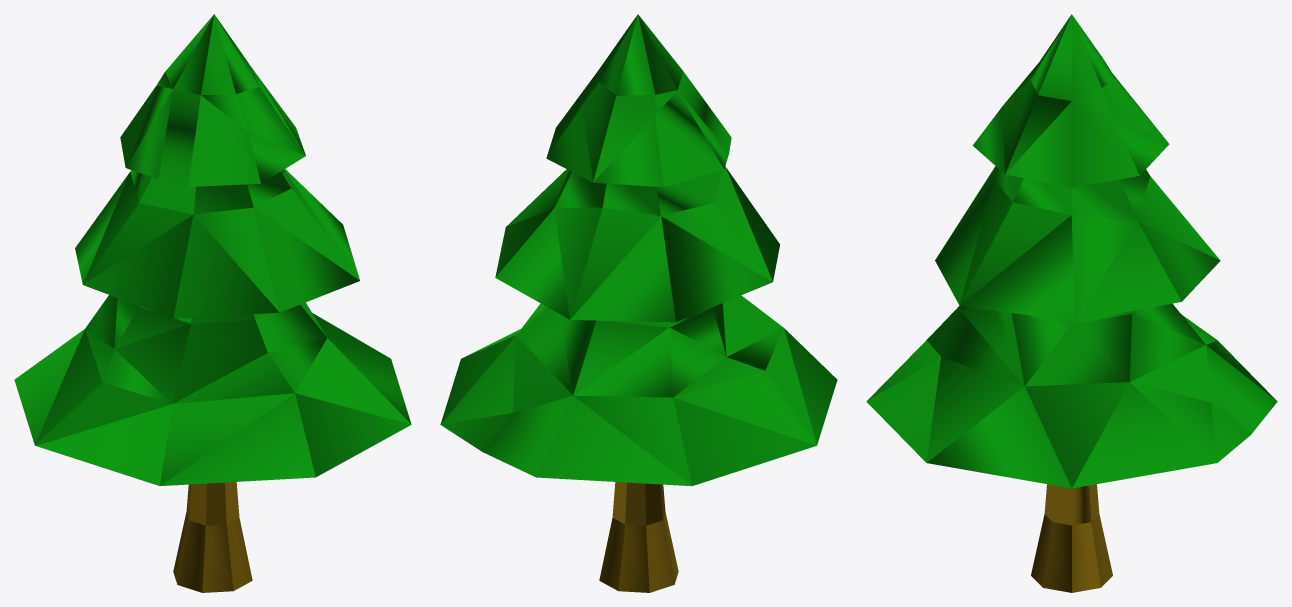
The model's file is Tree.fbx.
3 views of the same model, side by side, from view 1: azimuth 30°, elevation 25°; view 2: azimuth 150°, elevation 25°; view 3: azimuth 270°, elevation 25° (orthographic).
Parts seen in each view (by area): view 1: Tree; view 2: Tree; view 3: Tree.
Part boxes in pixels (box(x1,y1,x2,y2)): Tree: box(14, 14, 411, 592); Tree: box(440, 14, 837, 592); Tree: box(866, 14, 1277, 592).
Size of the model in its own units: 180 by 271 by 180.
